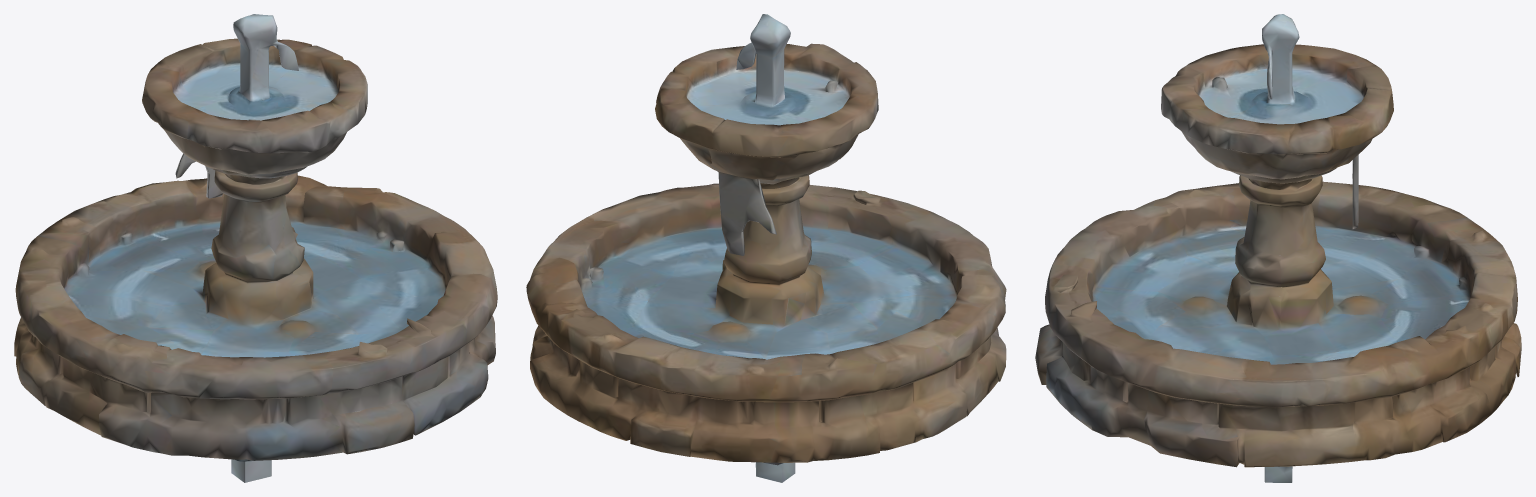
Rendered from fountain.glb.
3 renders of one model, left to right at view 1: azimuth 30°, elevation 25°; view 2: azimuth 150°, elevation 25°; view 3: azimuth 270°, elevation 25°, orthographic.
Visible parts, largest first — view 1: FountainBody; view 2: FountainBody; view 3: FountainBody.
Part boxes in pixels (left/top/right/bottom): FountainBody: left=14, top=14, right=497, bottom=482; FountainBody: left=526, top=14, right=1006, bottom=482; FountainBody: left=1035, top=14, right=1521, bottom=482.
Bounding box in the file's own units: 3.14 × 3.32 × 3.18.
1 material, 1 textured.
